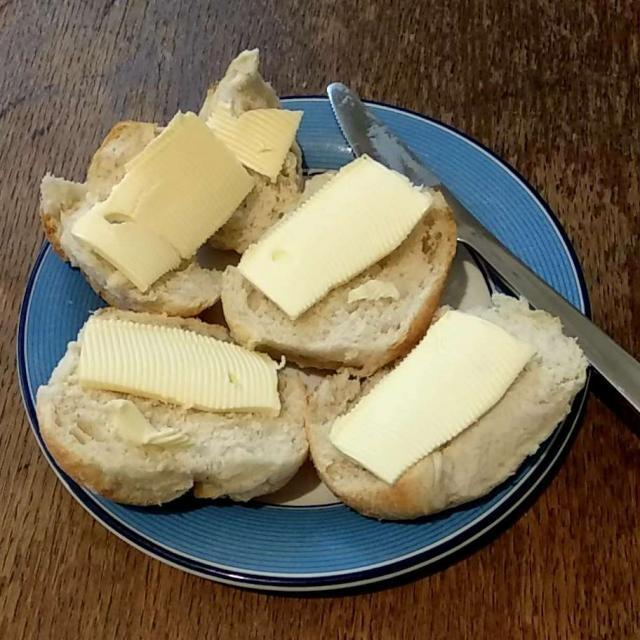bread: (44, 30, 575, 518)
